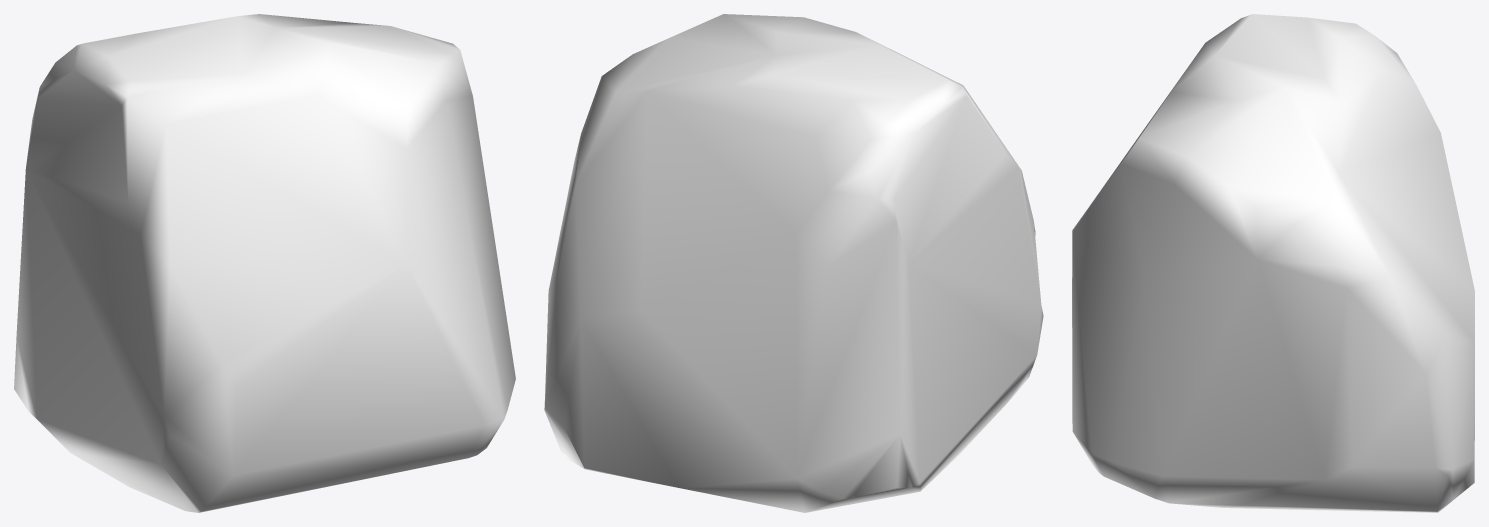
File: SM_RefinedMetal_2c.fbx
3 views of the same model, side by side, from view 1: azimuth 30°, elevation 25°; view 2: azimuth 150°, elevation 25°; view 3: azimuth 270°, elevation 25° (orthographic). The views are drawn at different scales.
Parts seen in each view (by area): view 1: RefinedMetal_2c; view 2: RefinedMetal_2c; view 3: RefinedMetal_2c.
Boxes of the visible parts, x1,y1,x2,y2 form: RefinedMetal_2c: [14, 14, 515, 512]; RefinedMetal_2c: [544, 14, 1043, 512]; RefinedMetal_2c: [1072, 14, 1474, 512].
Size of the model in its own units: 0.3039 by 0.3084 by 0.3084.
